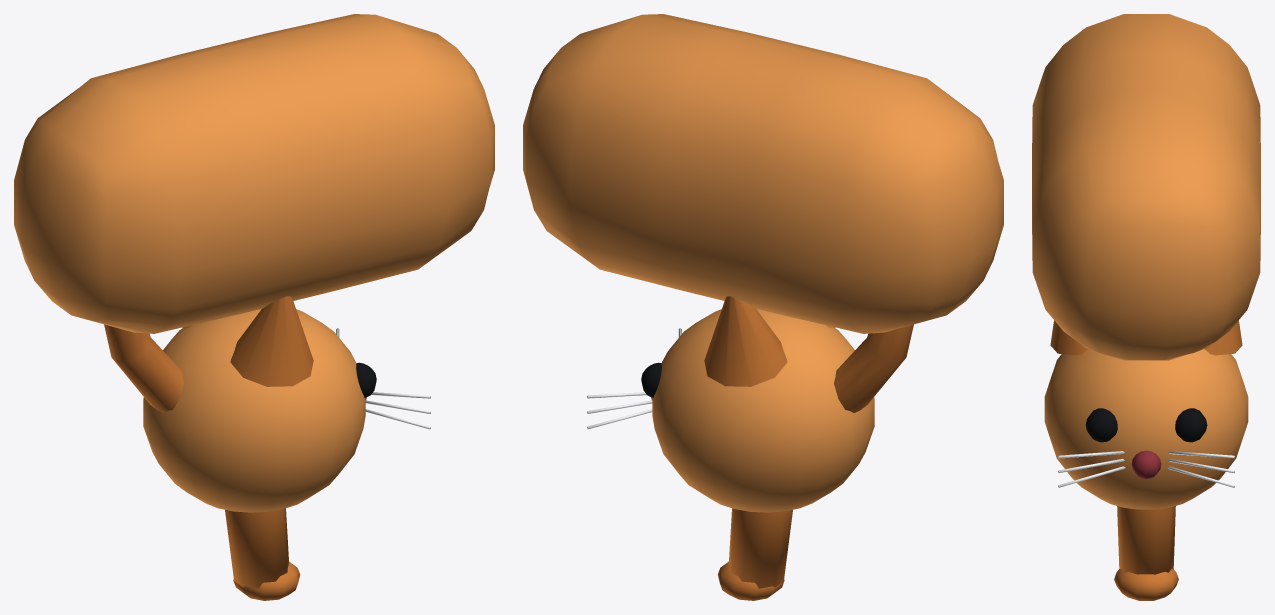
File: cat.glb
The picture shows the model from 3 angles, left to right: view 1: azimuth 30°, elevation 25°; view 2: azimuth 150°, elevation 25°; view 3: azimuth 270°, elevation 25°; orthographic projection. The views are drawn at different scales.
Parts seen in each view (by area): view 1: cat_body, cat_head, cat_head.001, cat_leg, cat_tail, cat_leg.001; view 2: cat_body, cat_head, cat_head.003, cat_leg, cat_tail, cat_leg.001; view 3: cat_body, cat_head, cat_leg, cat_leg.001, cat_head.002, cat_head.004, cat_head.001, cat_head.003, cat_head.005.
Part boxes in pixels (x1=…): cat_body: x1=14, y1=14, x2=494, y2=333; cat_head: x1=143, y1=309, x2=365, y2=512; cat_head.001: x1=230, y1=296, x2=313, y2=386; cat_leg: x1=225, y1=508, x2=288, y2=588; cat_tail: x1=104, y1=324, x2=183, y2=412; cat_leg.001: x1=233, y1=561, x2=300, y2=600; cat_body: x1=523, y1=14, x2=1003, y2=333; cat_head: x1=652, y1=308, x2=874, y2=512; cat_head.003: x1=704, y1=296, x2=787, y2=386; cat_leg: x1=729, y1=508, x2=792, y2=588; cat_tail: x1=834, y1=324, x2=913, y2=412; cat_leg.001: x1=717, y1=561, x2=784, y2=600; cat_body: x1=1032, y1=14, x2=1260, y2=360; cat_head: x1=1044, y1=349, x2=1248, y2=509; cat_leg: x1=1117, y1=506, x2=1175, y2=574; cat_leg.001: x1=1114, y1=569, x2=1178, y2=600; cat_head.002: x1=1085, y1=408, x2=1117, y2=442; cat_head.004: x1=1175, y1=408, x2=1207, y2=442; cat_head.001: x1=1050, y1=320, x2=1088, y2=355; cat_head.003: x1=1205, y1=320, x2=1242, y2=355; cat_head.005: x1=1131, y1=450, x2=1161, y2=478.
Bounding box in the file's own units: 35.75 × 42.3 × 16.92.
